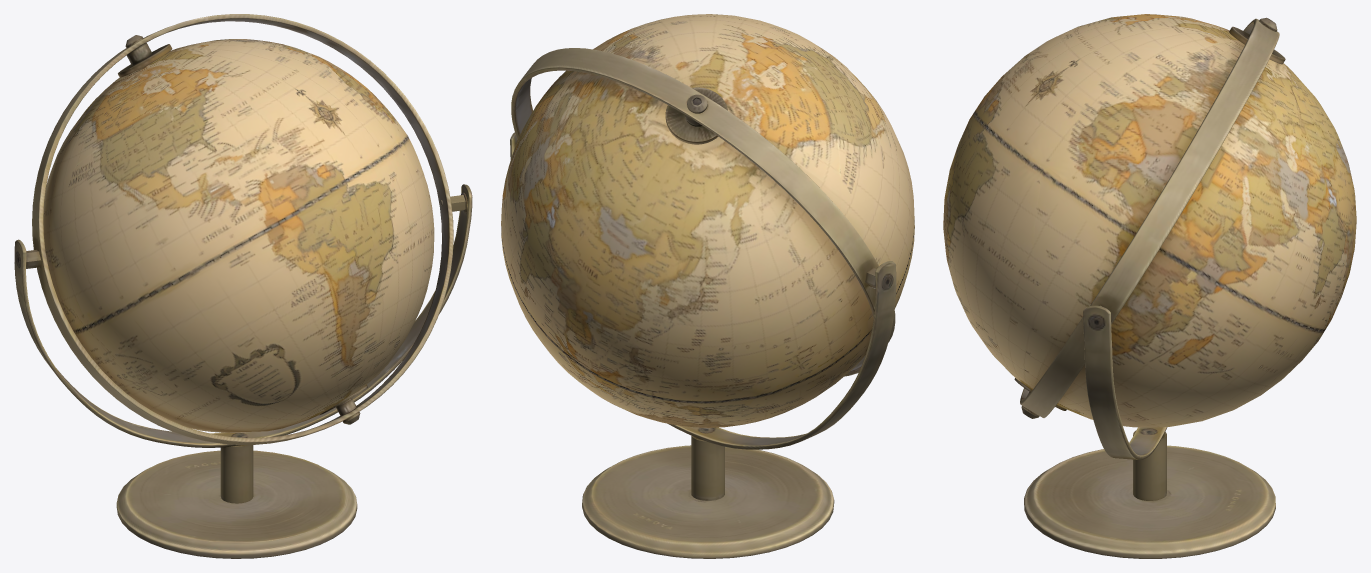
Rendered from Globo.obj.
3 renders of one model, left to right at view 1: azimuth 30°, elevation 25°; view 2: azimuth 150°, elevation 25°; view 3: azimuth 270°, elevation 25°, orthographic. The views are drawn at different scales.
Visible parts, largest first — view 1: RootNode.001_Material.001; view 2: RootNode.001_Material.001; view 3: RootNode.001_Material.001.
Boxes of the visible parts, box(x1,y1,x2,y2) form: RootNode.001_Material.001: box(14, 14, 472, 558); RootNode.001_Material.001: box(501, 14, 914, 558); RootNode.001_Material.001: box(943, 14, 1356, 558).
Size of the model in its own units: 3.12 by 3.33 by 2.63.
